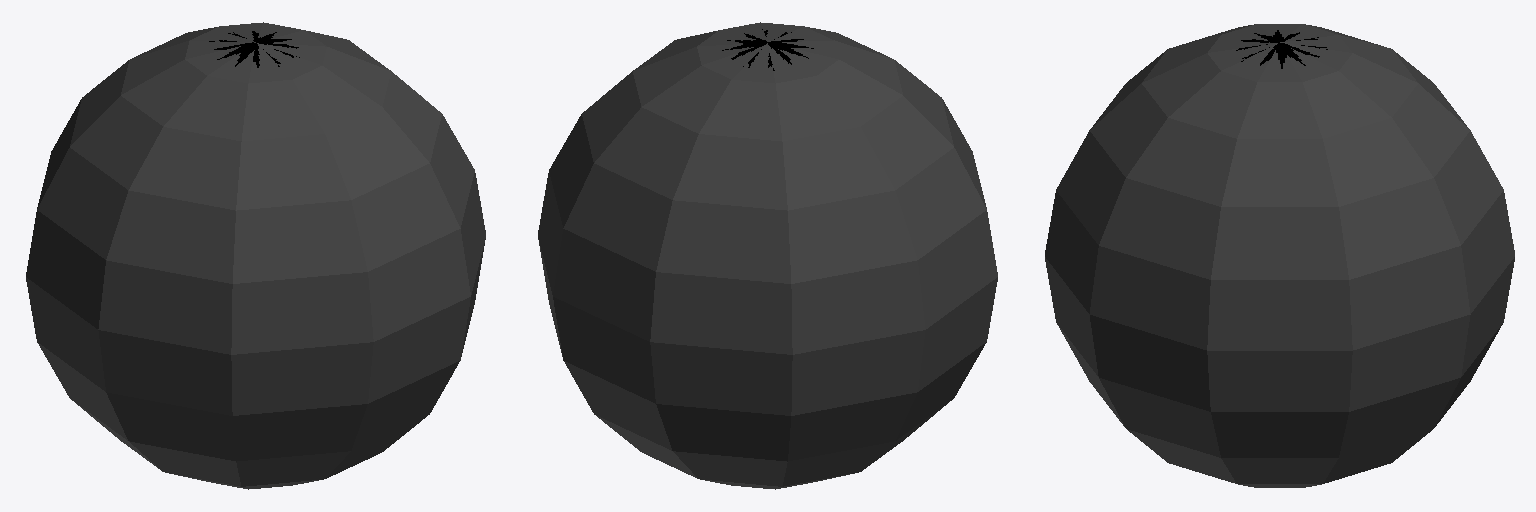
3 renders of one model, left to right at view 1: azimuth 30°, elevation 25°; view 2: azimuth 150°, elevation 25°; view 3: azimuth 270°, elevation 25°, orthographic.
Visible parts, largest first — view 1: Sphere_Sphere.001; view 2: Sphere_Sphere.001; view 3: Sphere_Sphere.001.
Boxes of the visible parts, <box> form: Sphere_Sphere.001: <box>26,22,485,489</box>; Sphere_Sphere.001: <box>538,22,997,489</box>; Sphere_Sphere.001: <box>1045,24,1514,487</box>.
Size of the model in its own units: 1.9 by 2 by 2.
1 materials, 1 textured.